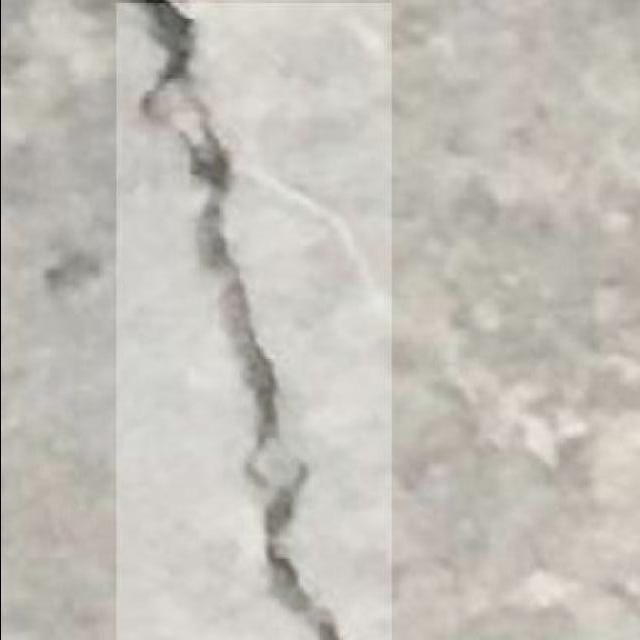SurfaceCrack: (110, 0, 394, 638)
